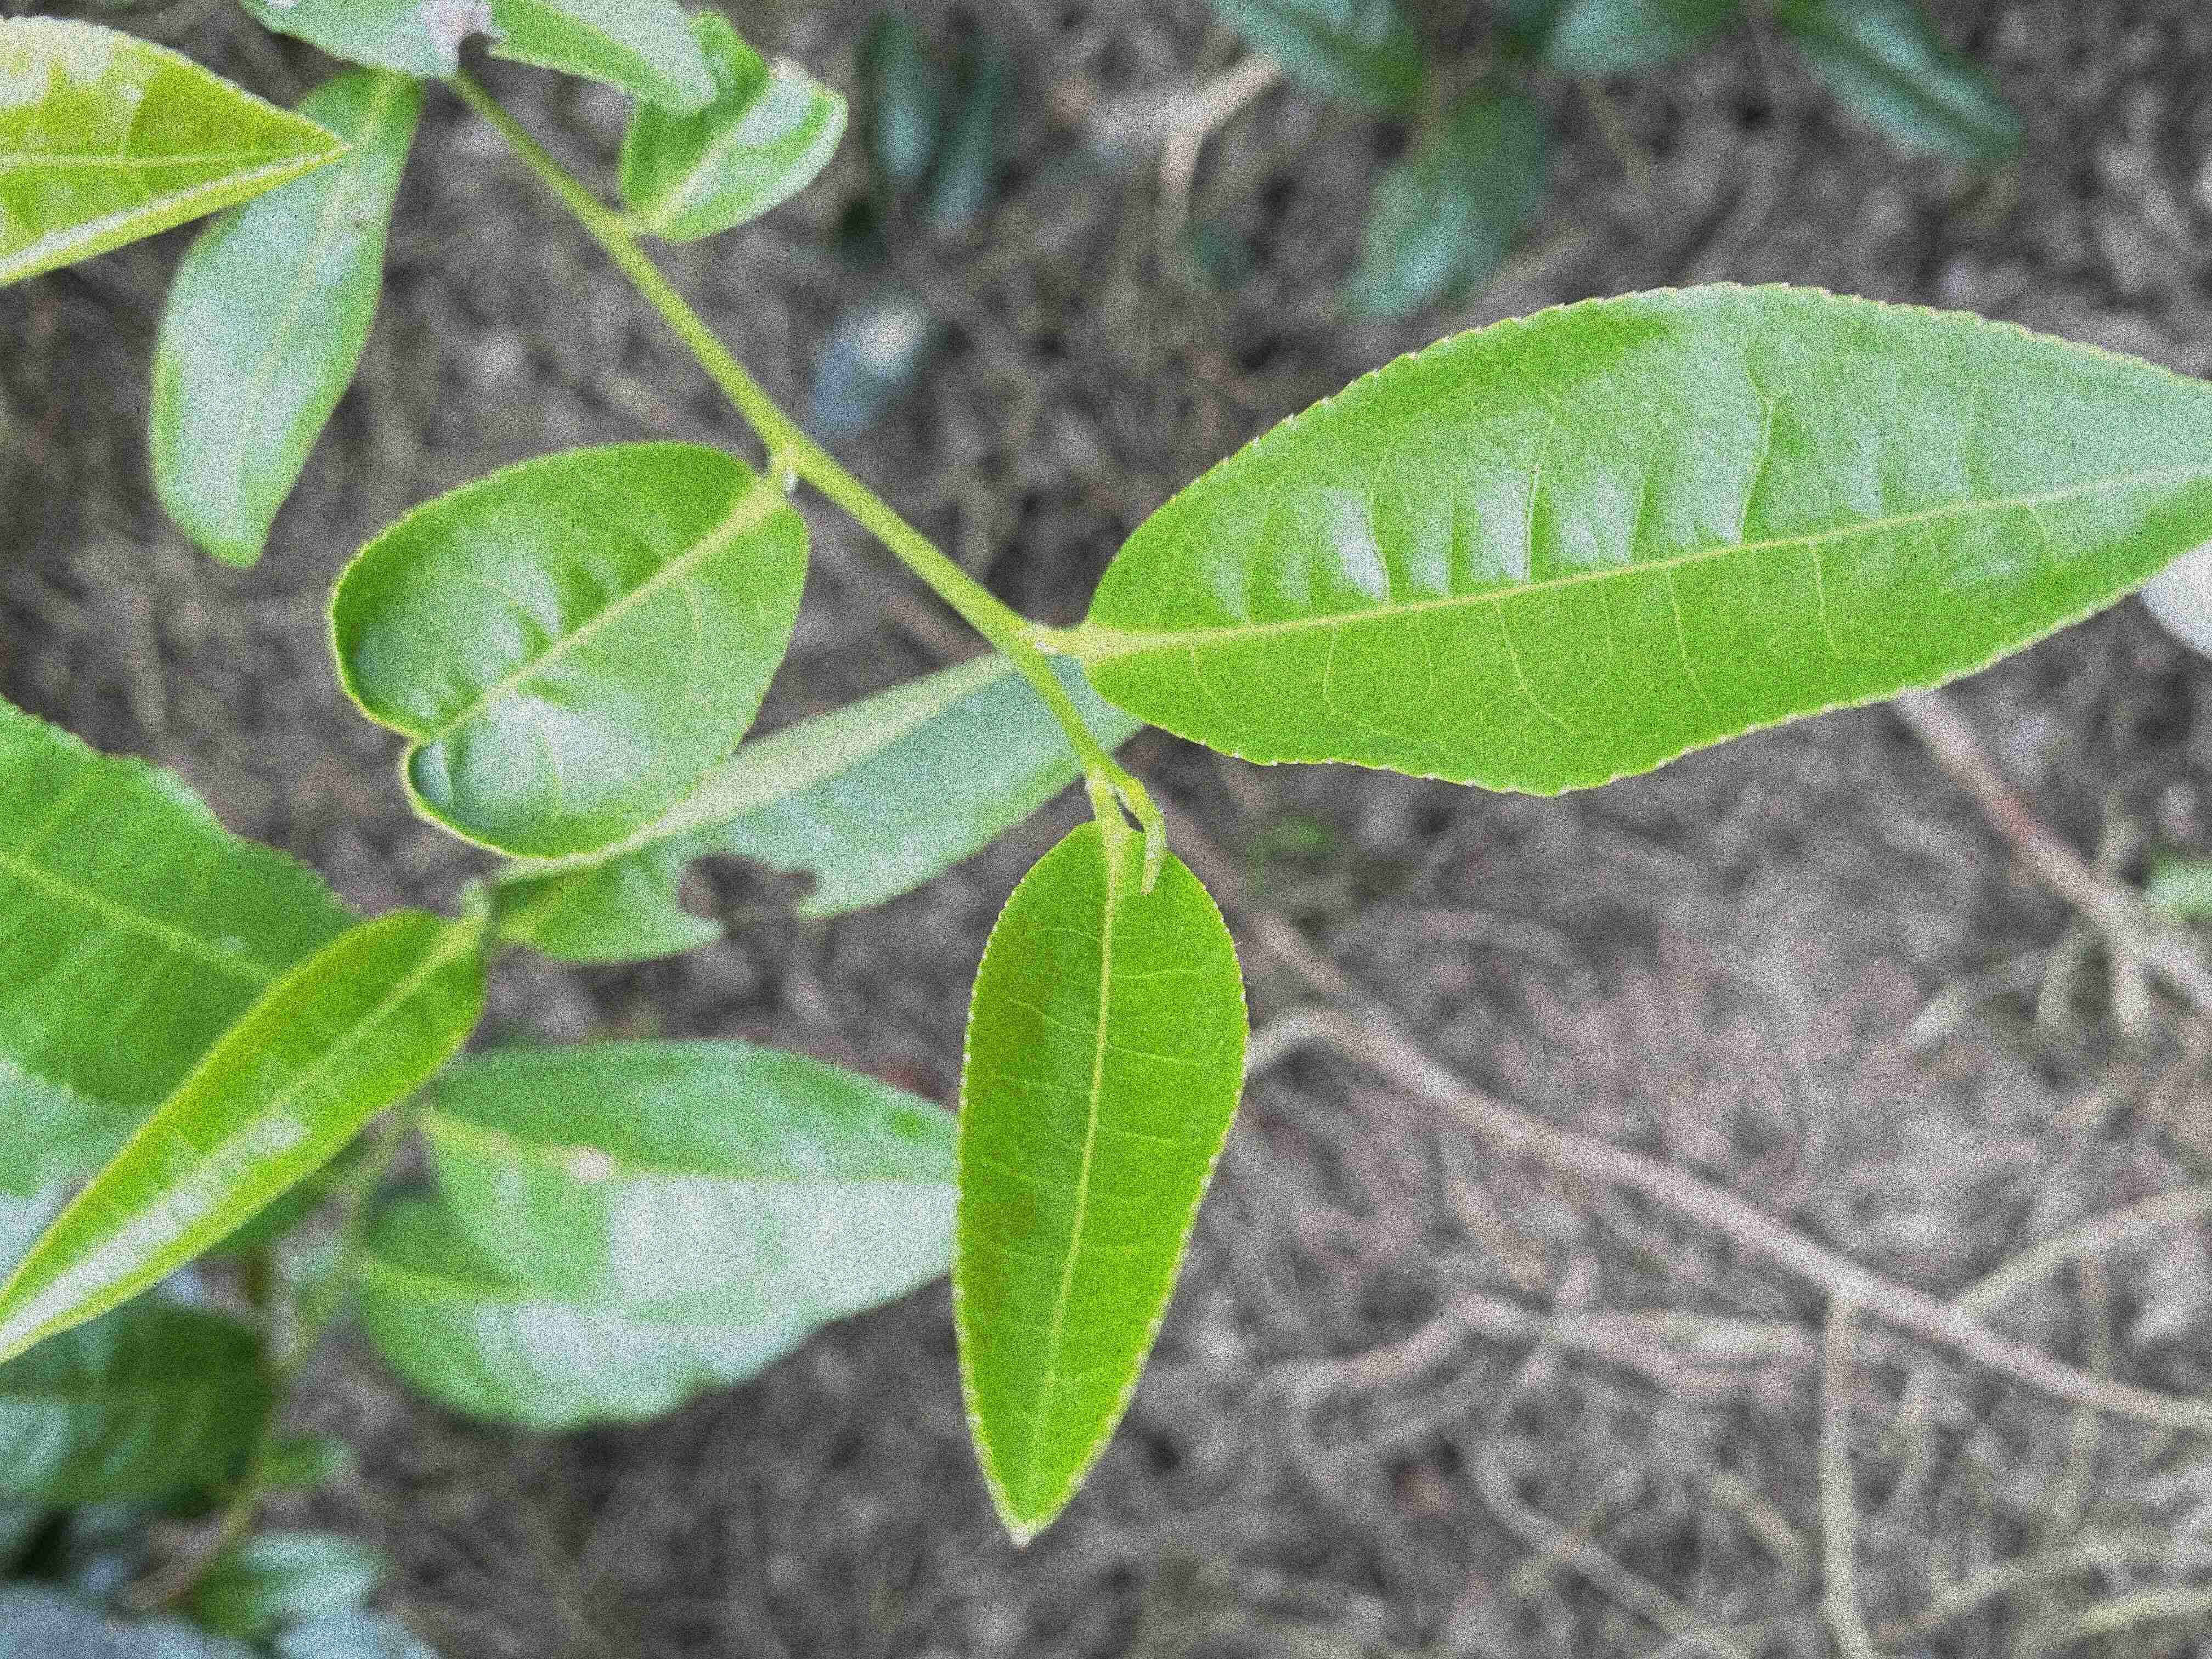healthy: (1083, 282, 2207, 800), (2, 910, 486, 1359), (949, 814, 1251, 1534)
